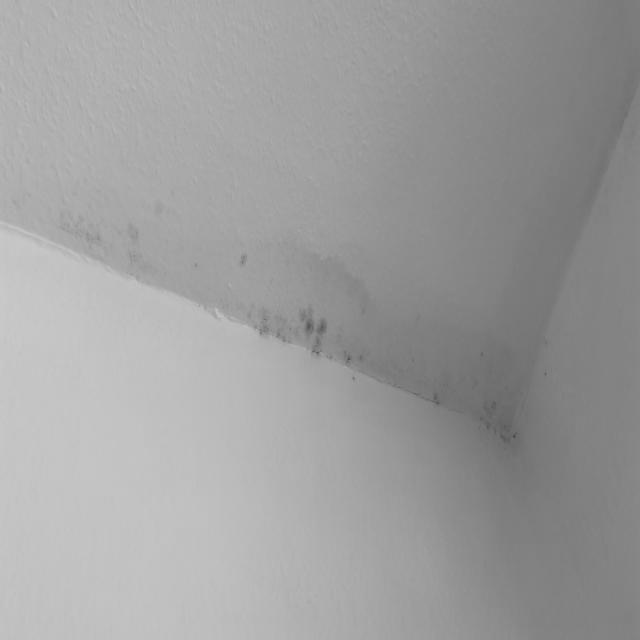stain marks: (7, 152, 577, 516), (413, 346, 540, 477), (232, 240, 338, 368), (48, 166, 144, 289)
